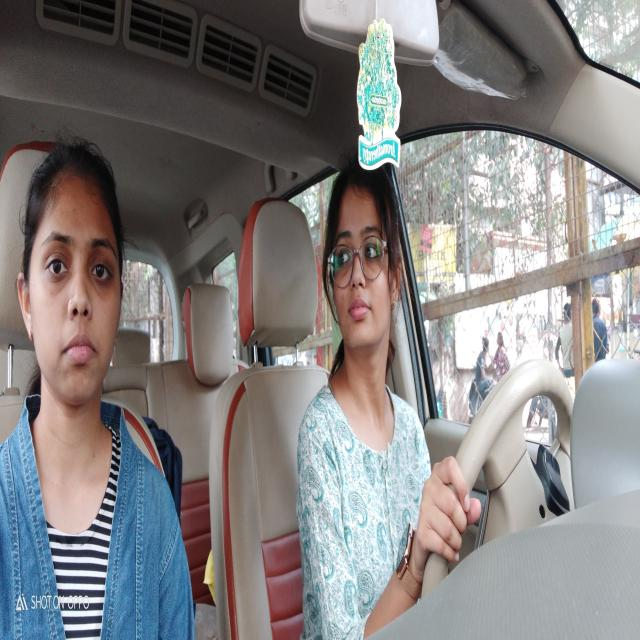LeftRight: (323, 157, 408, 360)
person: (15, 134, 130, 410)
